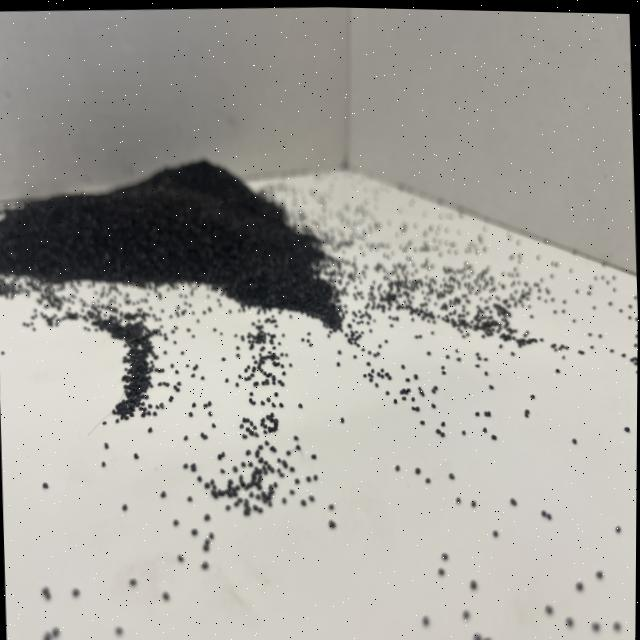Poppy Seeds: (0, 84, 362, 367)
